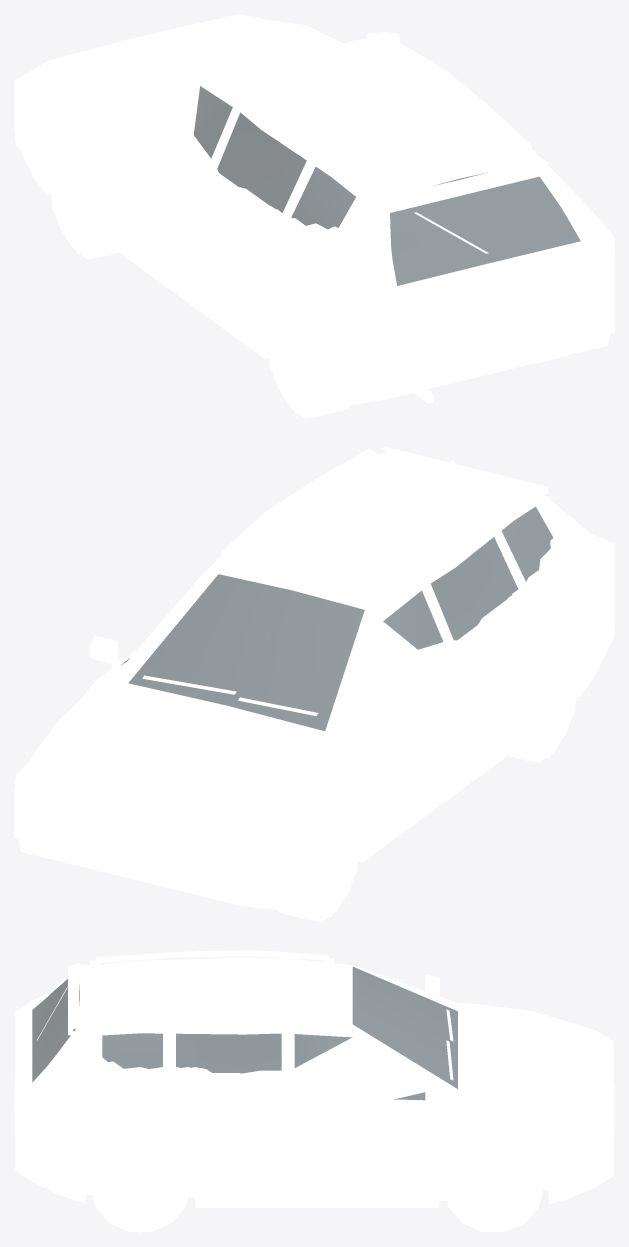
File: car_suv.glb
3 renders of one model, top to bottom at view 1: azimuth 30°, elevation 25°; view 2: azimuth 150°, elevation 25°; view 3: azimuth 270°, elevation 25°, orthographic. The views are drawn at different scales.
Parts seen in each view (by area): view 1: car_suv, car_suv_lodfar; view 2: car_suv, car_suv_lodfar; view 3: car_suv_lodfar, car_suv.
Boxes of the visible parts, x1,y1,x2,y2 form: car_suv: (14, 14, 613, 418); car_suv_lodfar: (14, 18, 614, 413); car_suv: (16, 447, 612, 921); car_suv_lodfar: (14, 498, 614, 917); car_suv_lodfar: (15, 966, 613, 1232); car_suv: (14, 950, 614, 1231).
Bounding box in the file's own units: 2.18 × 1.66 × 4.56.
